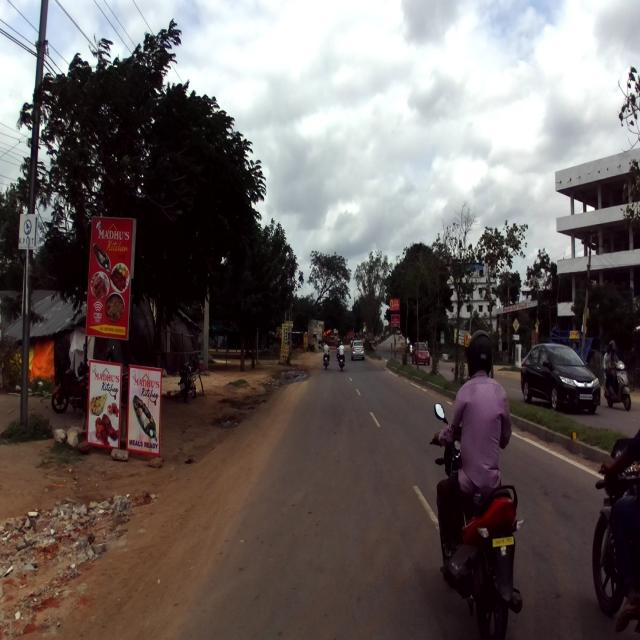car: (519, 341, 601, 415)
motorcycle: (427, 400, 524, 640)
